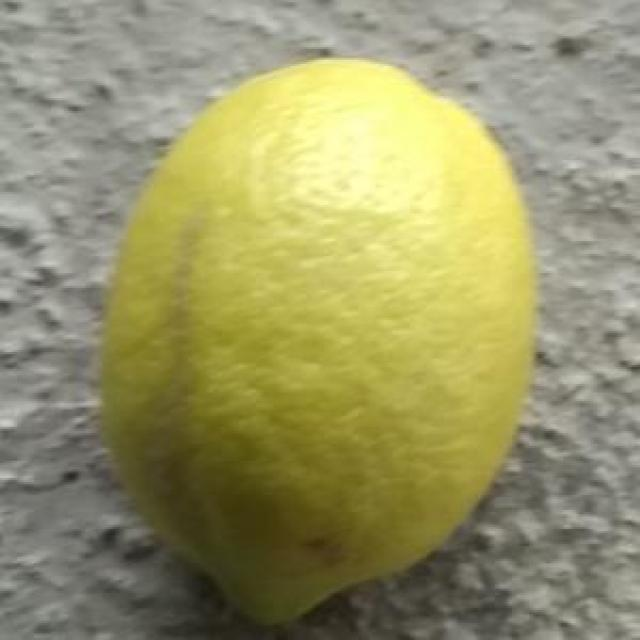lemon: (98, 60, 544, 635)
